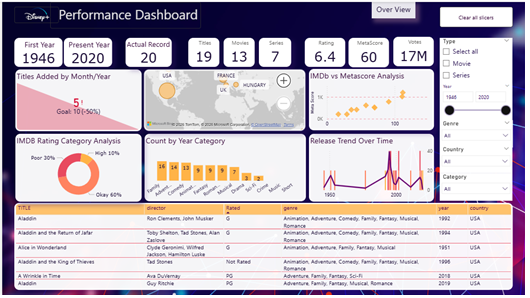

What the dashboard file says about the page in this screenshot:
{"tool":"powerbi","page":{"name":"Disney+ Home","canvas":[1280,720],"ordinal":0},"visuals":[{"type":"card","fields":{"Values":["Count(disney_plus_shows.TITLE)"]},"box":[455.2,87.3,75.6,70.6],"z":0},{"type":"card","fields":{"Values":["disney_plus_shows.Total Movie"]},"box":[542.6,87.3,75.6,70.6],"z":1000},{"type":"card","fields":{"Values":["disney_plus_shows.Total Series"]},"box":[628.2,87.3,79,70.6],"z":2000},{"type":"card","fields":{"Values":["Avg(disney_plus_shows.IMDB_rating)"]},"box":[740.8,87.3,99.1,70.6],"z":3000},{"type":"card","fields":{"Values":["Avg(disney_plus_shows.Metascore)"]},"box":[848.3,87.3,99.1,72.2],"z":4000},{"type":"card","title":"First Year","fields":{"Values":["Min(disney_plus_shows.Year)"]},"box":[30.2,87.3,117.6,70.6],"z":5000},{"type":"card","title":"Present Year","fields":{"Values":["disney_plus_shows.Present Year"]},"box":[151.2,87.3,117.6,70.6],"z":6000},{"type":"card","fields":{"Values":["Sum(disney_plus_shows.IMDB_votes)"]},"box":[957.5,85.7,99.1,72.2],"z":7000},{"type":"kpi","title":"Titles Added by Month/Year","fields":{"Goal":["disney_plus_shows.Target Title"],"TrendLine":["disney_plus_shows.Added_at.Variation.Date Hierarchy.Year"],"Indicator":["Count(disney_plus_shows.IMDB ID)"]},"box":[31.9,164.6,309.1,151.2],"z":8000},{"type":"columnChart","title":"Count by Year Category","fields":{"Y":["Count(disney_plus_shows.IMDB ID)"],"Category":["disney_plus_shows.Genre"]},"box":[348.6,322.5,394.8,164.6],"z":9000},{"type":"card","title":"Actual Record","fields":{"Values":["Count(disney_plus_shows.IMDB ID)"]},"box":[302.4,87.3,112.5,70.6],"z":10000},{"type":"textbox","box":[117.3,0,369.5,64.5],"z":11000},{"type":"map","fields":{"Category":["disney_plus_shows.Country"],"Size":["Count(disney_plus_shows.IMDB ID)"]},"box":[347.7,164.6,394.8,149.5],"z":12000},{"type":"lineStackedColumnComboChart","title":"Release Trend Over Time","fields":{"Y":["Count(disney_plus_shows.IMDB ID)"],"Y2":["CountNonNull(disney_plus_shows.Year Category)"],"Series":["disney_plus_shows.Rating Category"],"Category":["disney_plus_shows.Year"]},"box":[751.4,322.9,305.7,165.7],"z":13000},{"type":"slicer","fields":{"Values":["disney_plus_shows.Year"]},"box":[1070.8,199.6,177.5,89.5],"z":14000},{"type":"slicer","fields":{"Values":["disney_plus_shows.Type"]},"box":[1070.8,87.3,178.1,112.5],"z":15000},{"type":"slicer","fields":{"Values":["disney_plus_shows.Genre"]},"box":[1070.8,289,178.9,67.4],"z":16000},{"type":"slicer","fields":{"Values":["disney_plus_shows.Country"]},"box":[1070.8,352.3,177.5,67.4],"z":17000},{"type":"slicer","fields":{"Values":["disney_plus_shows.Rated"]},"box":[1070.8,419.9,178.1,67.2],"z":18000},{"type":"scatterChart","title":"IMDb vs Metascore Analysis","fields":{"X":["Sum(disney_plus_shows.IMDB_rating)"],"Y":["Sum(disney_plus_shows.Metascore)"],"Category":["disney_plus_shows.IMDB ID"]},"box":[751.4,164.3,305.7,150],"z":19000},{"type":"tableEx","title":"Top Rated Titles","fields":{"Values":["disney_plus_shows.TITLE","rowdata_disney_plus_shows.director","disney_plus_shows.Rated","rowdata_disney_plus_shows.genre","rowdata_disney_plus_shows.year","rowdata_disney_plus_shows.country"]},"box":[30.2,492.2,1219.5,213.3],"z":20000},{"type":"donutChart","title":"IMDB Rating Category Analysis","fields":{"Category":["disney_plus_shows.Rating Category"],"Y":["Count(disney_plus_shows.IMDB ID)"]},"box":[31.9,322.5,309.1,166.3],"z":21000},{"type":"image","box":[30.2,11.8,109.2,40.3],"z":22000},{"type":"actionButton","title":"Over View","box":[904.3,0,107.1,40],"z":23000},{"type":"actionButton","box":[1071.4,11.4,178.6,50],"z":24000}]}

Visuals, with their boxes in screenshot pixels (x1, y1, x2, y2), scaled from the page's 1280x720 canvas onto the 530x298 screenshot:
card - Count(disney_plus_shows.TITLE): 188/36/220/65
card - disney_plus_shows.Total Movie: 225/36/256/65
card - disney_plus_shows.Total Series: 260/36/293/65
card - Avg(disney_plus_shows.IMDB_rating): 307/36/348/65
card - Avg(disney_plus_shows.Metascore): 351/36/392/66
"First Year" card: 13/36/61/65
"Present Year" card: 63/36/111/65
card - Sum(disney_plus_shows.IMDB_votes): 396/35/437/65
"Titles Added by Month/Year" kpi: 13/68/141/131
"Count by Year Category" columnChart: 144/133/308/202
"Actual Record" card: 125/36/172/65
textbox: 49/0/202/27
map - disney_plus_shows.Country x Count(disney_plus_shows.IMDB ID): 144/68/307/130
"Release Trend Over Time" lineStackedColumnComboChart: 311/134/438/202
slicer - disney_plus_shows.Year: 443/83/517/120
slicer - disney_plus_shows.Type: 443/36/517/83
slicer - disney_plus_shows.Genre: 443/120/517/148
slicer - disney_plus_shows.Country: 443/146/517/174
slicer - disney_plus_shows.Rated: 443/174/517/202
"IMDb vs Metascore Analysis" scatterChart: 311/68/438/130
"Top Rated Titles" tableEx: 13/204/517/292
"IMDB Rating Category Analysis" donutChart: 13/133/141/202
image: 13/5/58/22
"Over View" actionButton: 374/0/419/17
actionButton: 444/5/518/25
